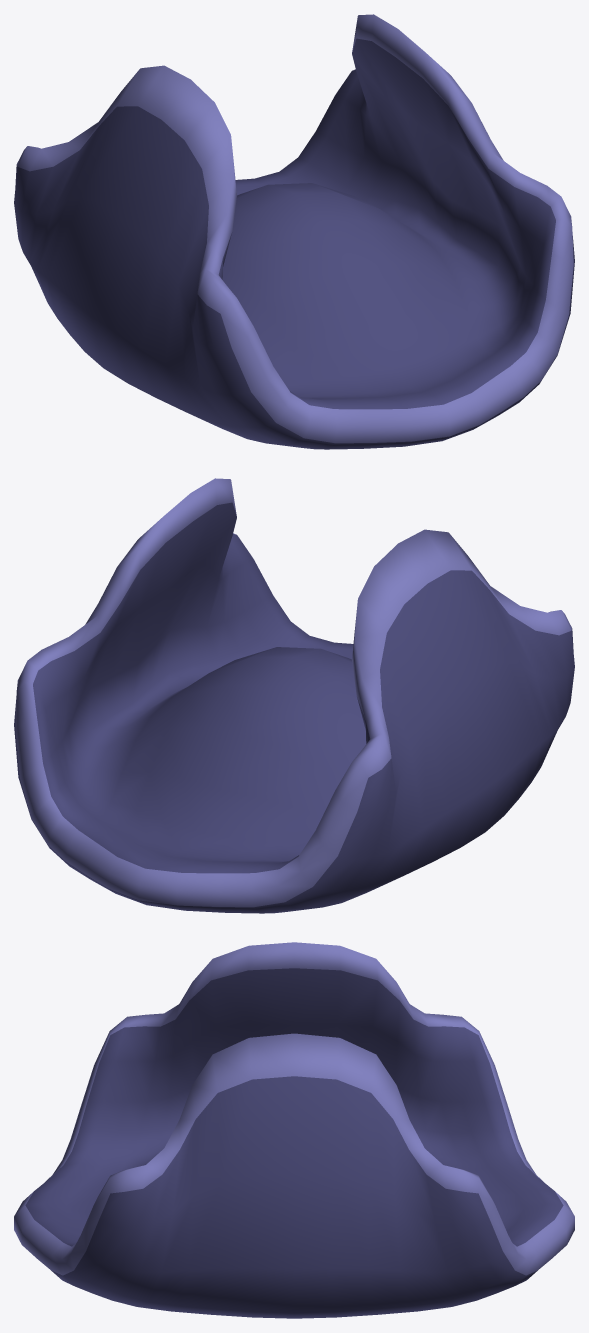
Rendered from Pirate Hat.fbx.
3 renders of one model, top to bottom at view 1: azimuth 30°, elevation 25°; view 2: azimuth 150°, elevation 25°; view 3: azimuth 270°, elevation 25°, orthographic. The views are drawn at different scales.
Parts seen in each view (by area): view 1: Pirate Hat; view 2: Pirate Hat; view 3: Pirate Hat.
Part boxes in pixels (x1,y1,x2,y2): Pirate Hat: [14, 14, 574, 449]; Pirate Hat: [14, 478, 574, 913]; Pirate Hat: [14, 942, 574, 1318].
Bounding box in the file's own units: 115 × 80.54 × 152.
